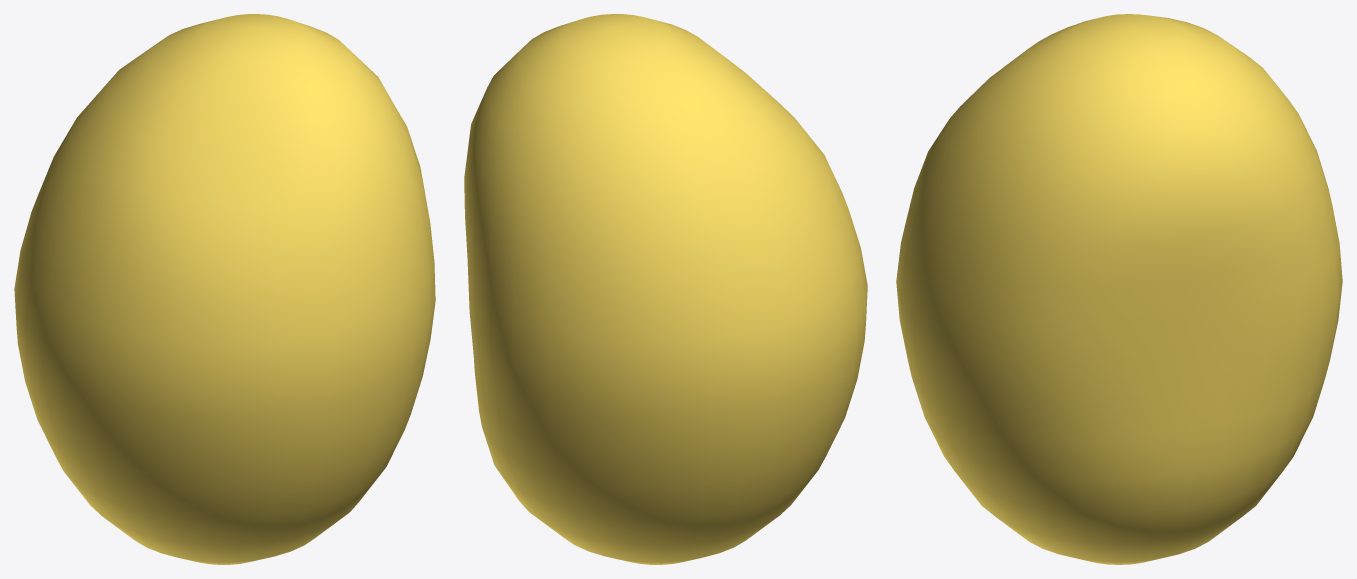
File: potato.fbx
3 renders of one model, left to right at view 1: azimuth 30°, elevation 25°; view 2: azimuth 150°, elevation 25°; view 3: azimuth 270°, elevation 25°, orthographic. The views are drawn at different scales.
Parts seen in each view (by area): view 1: #potato; view 2: #potato; view 3: #potato.
Part boxes in pixels (x1,y1,x2,y2): #potato: (14, 14, 435, 564); #potato: (464, 14, 867, 564); #potato: (896, 14, 1342, 564).
Bounding box in the file's own units: 193 × 266 × 200.
Materials: 1 (1 with a texture image).
